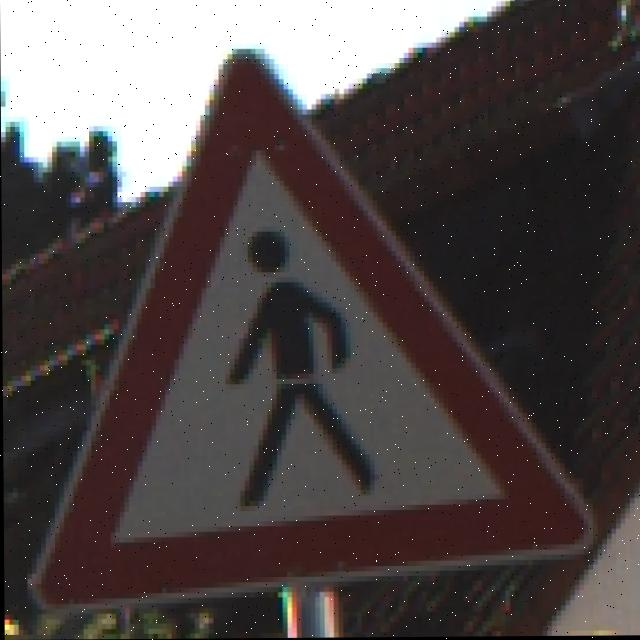crosswalk: (17, 26, 594, 560)
